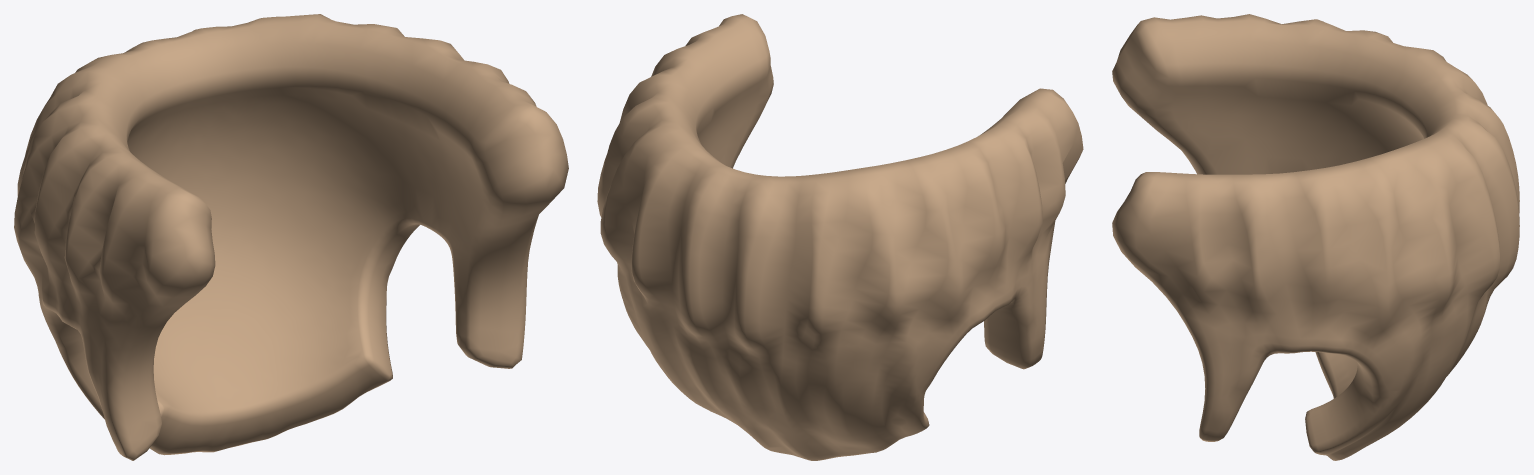
Rendered from hair-2-0e199b24.glb.
3 renders of one model, left to right at view 1: azimuth 30°, elevation 25°; view 2: azimuth 150°, elevation 25°; view 3: azimuth 270°, elevation 25°, orthographic. The views are drawn at different scales.
Visible parts, largest first — view 1: Geo_White_Old_Male_Hair_2.001; view 2: Geo_White_Old_Male_Hair_2.001; view 3: Geo_White_Old_Male_Hair_2.001.
Boxes of the visible parts, x1,y1,x2,y2 form: Geo_White_Old_Male_Hair_2.001: (14, 14, 568, 460); Geo_White_Old_Male_Hair_2.001: (597, 14, 1083, 460); Geo_White_Old_Male_Hair_2.001: (1112, 14, 1519, 460).
Size of the model in its own units: 1.49 by 1.18 by 1.27.
